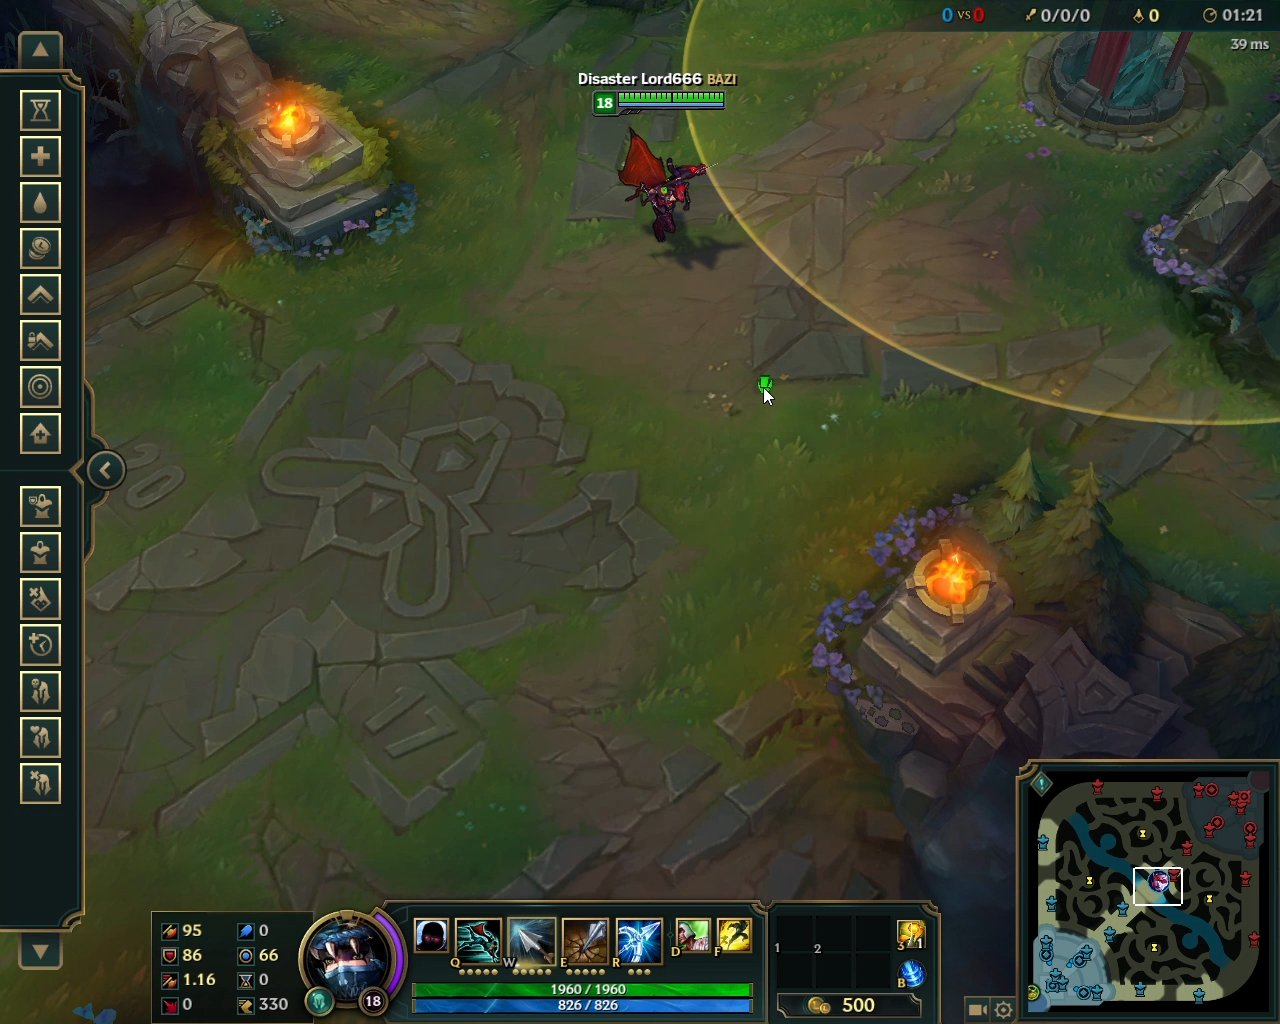Vayne: (614, 124, 714, 245)
